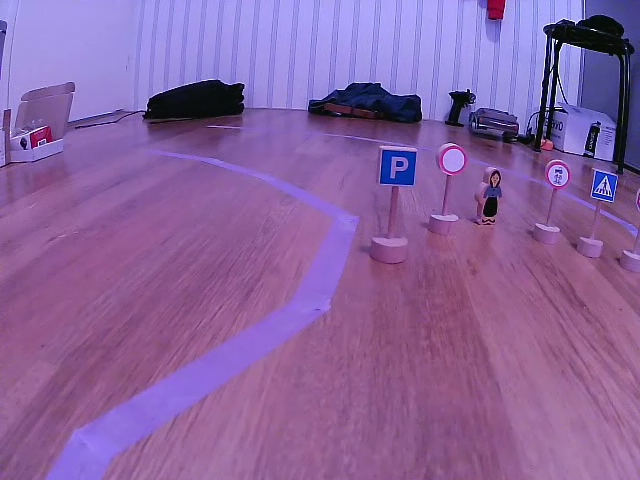fietspad: (546, 161, 569, 190)
mens: (477, 166, 503, 227)
parkeerbord: (378, 145, 416, 188)
wegdicht: (435, 142, 467, 177)
zebrapad: (591, 169, 618, 202)
